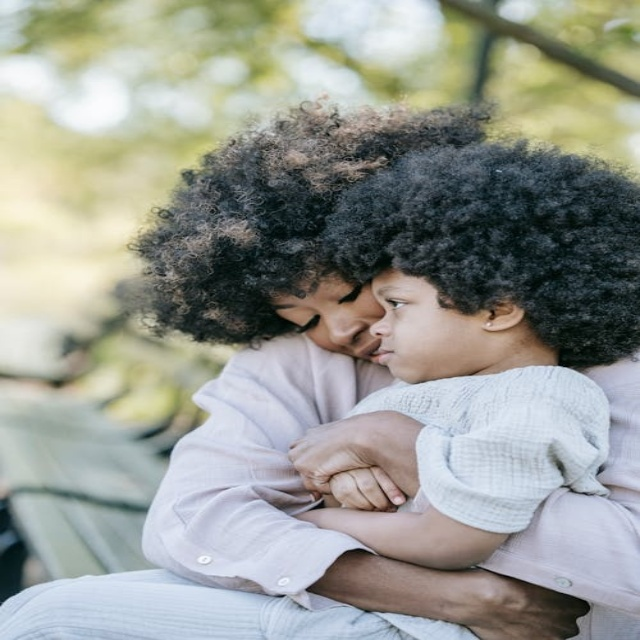Sin_gafas: (261, 245, 366, 340)
Sin_guantes: (284, 410, 425, 512), (441, 570, 590, 640)
Sin_mascara: (375, 343, 430, 380), (351, 335, 378, 364)
